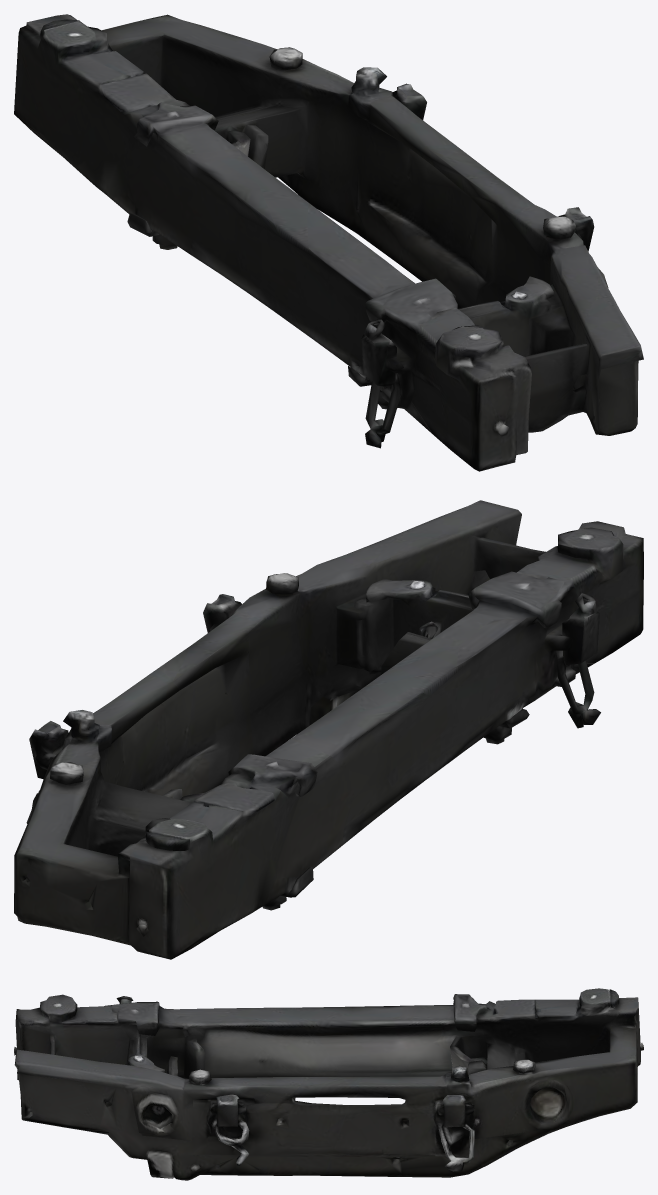
3 views of the same model, one above another, from view 1: azimuth 30°, elevation 25°; view 2: azimuth 150°, elevation 25°; view 3: azimuth 270°, elevation 25° (orthographic). The views are drawn at different scales.
Parts seen in each view (by area): view 1: tripo_node_943d2cc6-03ae-49a3-b213-ca7de4301a88; view 2: tripo_node_943d2cc6-03ae-49a3-b213-ca7de4301a88; view 3: tripo_node_943d2cc6-03ae-49a3-b213-ca7de4301a88.
Part boxes in pixels (x1,y1,x2,y2): tripo_node_943d2cc6-03ae-49a3-b213-ca7de4301a88: [14, 14, 643, 471]; tripo_node_943d2cc6-03ae-49a3-b213-ca7de4301a88: [14, 500, 643, 959]; tripo_node_943d2cc6-03ae-49a3-b213-ca7de4301a88: [14, 988, 643, 1180].
Size of the model in its own units: 0.3599 by 0.2071 by 0.9831.
Materials: 1 (1 with a texture image).
